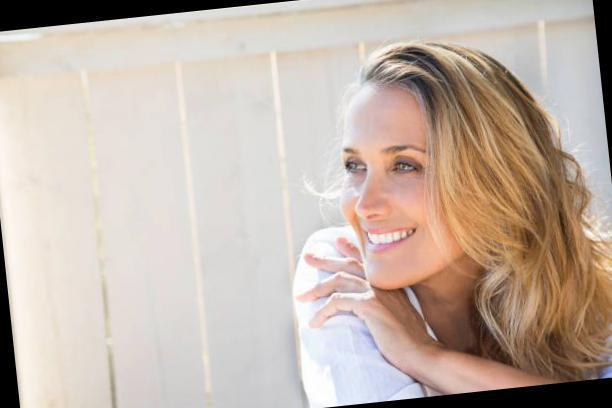Sober: (336, 83, 456, 291)
